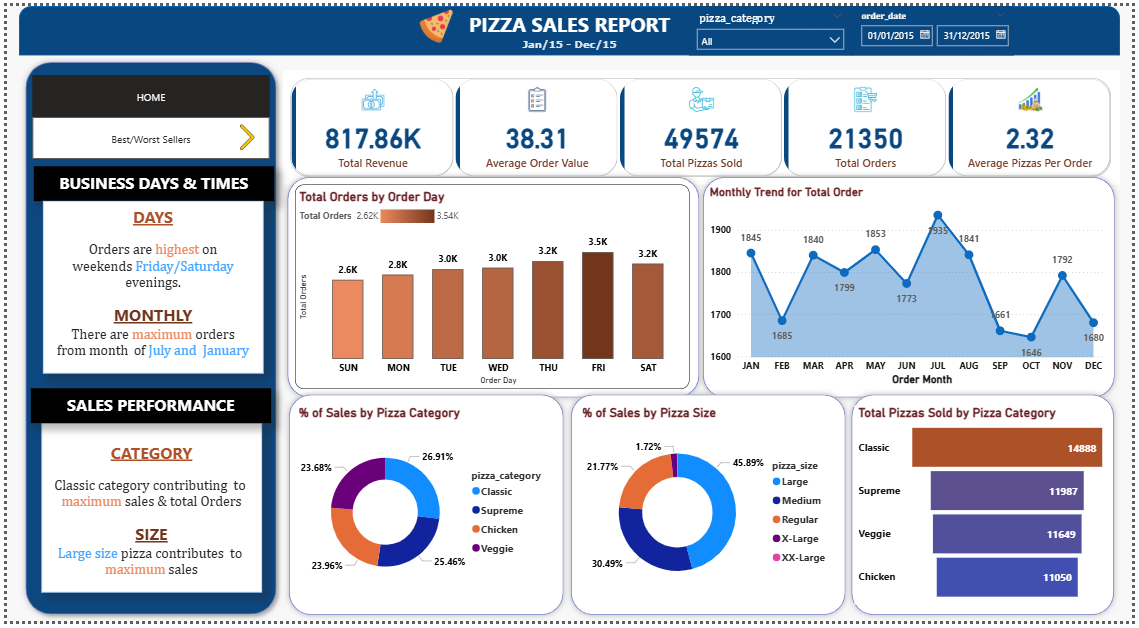

Layout of this report page (visuals, bound fields, positions):
{"tool":"powerbi","page":{"name":"HOME","canvas":[1500,820],"ordinal":0},"visuals":[{"type":"cardVisual","fields":{"Data":["pizza_sales.Total Revenue","pizza_sales.Average Order Value","pizza_sales.Total Pizzas Sold","pizza_sales.Total Orders","pizza_sales.Average Pizzas Per Order"]},"box":[368,86,1116,152],"z":0},{"type":"shape","box":[16,0,1468,66],"z":1000},{"type":"textbox","box":[590,0,320,52],"z":2000},{"type":"shape","box":[16,66,352,754],"z":3000},{"type":"textbox","box":[680,36,140,30],"z":4000},{"type":"image","box":[538,4,68,46],"z":5000},{"type":"shape","box":[365,220,565,310],"z":6000},{"type":"columnChart","fields":{"Category":["pizza_sales.Order Day"],"Y":["pizza_sales.Total Orders"]},"box":[384.3,238.6,525.7,272.9],"z":7000},{"type":"shape","box":[920,220,565,310],"z":8000},{"type":"areaChart","title":"Monthly Trend for Total Order","fields":{"Category":["pizza_sales.Order Month"],"Y":["pizza_sales.Total Orders"]},"box":[932,238,538,272],"z":9000},{"type":"shape","box":[368,510,382,310],"z":10000},{"type":"shape","box":[744,510,382,310],"z":11000},{"type":"shape","box":[1118,510,366,310],"z":12000},{"type":"donutChart","title":"% of Sales by Pizza Category","fields":{"Category":["pizza_sales.pizza_category"],"Y":["pizza_sales.Total Revenue"]},"box":[384,532,346,266],"z":13000},{"type":"donutChart","title":"% of Sales by Pizza Size","fields":{"Category":["pizza_sales.pizza_size"],"Y":["pizza_sales.Total Revenue"]},"box":[762,532,346,266],"z":14000},{"type":"funnel","title":"Total Pizzas Sold by Pizza Category","fields":{"Y":["pizza_sales.Total Pizzas Sold"],"Category":["pizza_sales.pizza_category"]},"box":[1130,532,340,266],"z":15000},{"type":"textbox","box":[36,214,320,46],"z":16000},{"type":"textbox","box":[48,260,294,230],"z":17000},{"type":"textbox","box":[46,556,294,226],"z":18000},{"type":"textbox","box":[32,510,320,46],"z":19000},{"type":"slicer","fields":{"Values":["pizza_sales.order_date"]},"box":[1126,0,216,66],"z":20000},{"type":"slicer","fields":{"Values":["pizza_sales.pizza_category"]},"box":[910,0,216,66],"z":21000},{"type":"pageNavigator","box":[34,92,316,56],"z":22000},{"type":"pageNavigator","box":[34,148,316,56],"z":23000},{"type":"image","box":[300,158,40,34],"z":24000}]}

Visuals, with their boxes in screenshot pixels (x1, y1, x2, y2), scaled from the page's 1500x820 canvas onto the 1139x628 screenshot:
cardVisual - pizza_sales.Total Revenue x pizza_sales.Average Order Value: box(279, 66, 1127, 182)
shape: box(12, 0, 1127, 51)
textbox: box(448, 0, 691, 40)
shape: box(12, 51, 279, 627)
textbox: box(516, 28, 623, 51)
image: box(409, 3, 460, 38)
shape: box(277, 168, 706, 406)
columnChart - pizza_sales.Order Day x pizza_sales.Total Orders: box(292, 183, 691, 392)
shape: box(699, 168, 1128, 406)
"Monthly Trend for Total Order" areaChart: box(708, 182, 1116, 391)
shape: box(279, 391, 570, 627)
shape: box(565, 391, 855, 627)
shape: box(849, 391, 1127, 627)
"% of Sales by Pizza Category" donutChart: box(292, 407, 554, 611)
"% of Sales by Pizza Size" donutChart: box(579, 407, 841, 611)
"Total Pizzas Sold by Pizza Category" funnel: box(858, 407, 1116, 611)
textbox: box(27, 164, 270, 199)
textbox: box(36, 199, 260, 375)
textbox: box(35, 426, 258, 599)
textbox: box(24, 391, 267, 426)
slicer - pizza_sales.order_date: box(855, 0, 1019, 51)
slicer - pizza_sales.pizza_category: box(691, 0, 855, 51)
pageNavigator: box(26, 70, 266, 113)
pageNavigator: box(26, 113, 266, 156)
image: box(228, 121, 258, 147)
